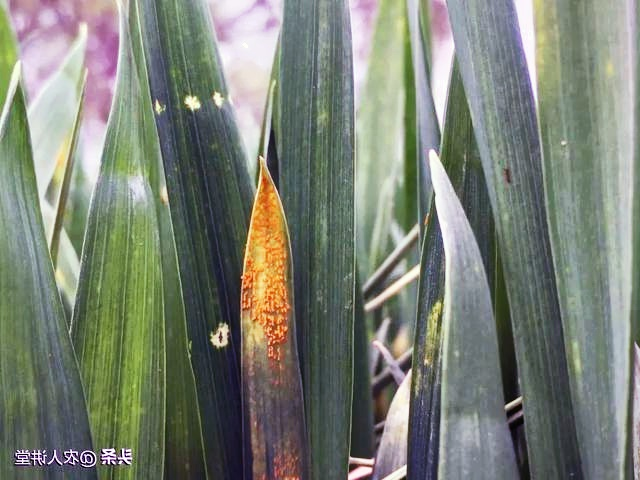Leaf Rust: (222, 176, 312, 473)
